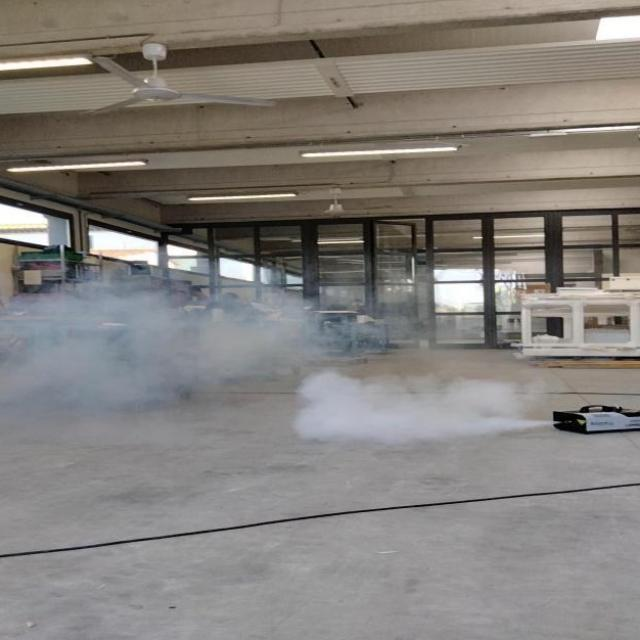fire: (0, 280, 316, 409), (296, 374, 560, 446)
